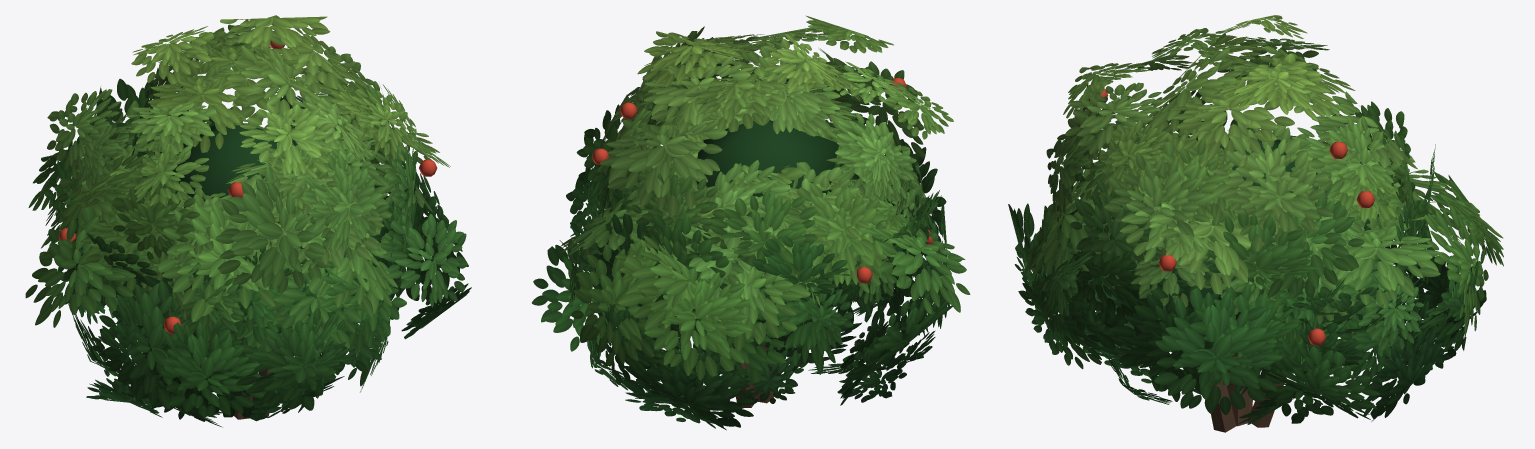
Rendered from bush_berry.gltf.
3 views of the same model, side by side, from view 1: azimuth 30°, elevation 25°; view 2: azimuth 150°, elevation 25°; view 3: azimuth 270°, elevation 25° (orthographic). The views are drawn at different scales.
Visible parts, largest first — view 1: Leaves_summer, Stems; view 2: Leaves_summer, Stems; view 3: Leaves_summer, Stems.
Part boxes in pixels (x1,y1,x2,y2): Leaves_summer: [25, 15, 471, 427]; Stems: [59, 41, 437, 419]; Leaves_summer: [532, 15, 970, 430]; Stems: [587, 78, 938, 408]; Leaves_summer: [1008, 15, 1503, 424]; Stems: [1099, 87, 1375, 432].
Size of the model in its own units: 1.77 by 1.6 by 1.91.
3 materials, 1 textured.
